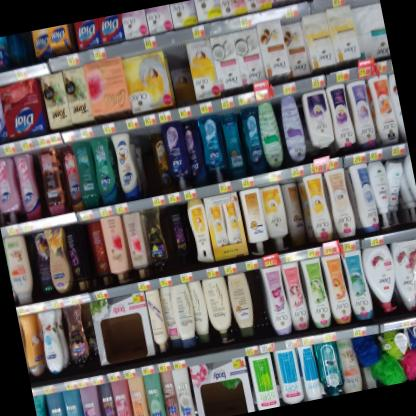empty_space: (136, 122, 161, 188), (246, 265, 270, 332)
